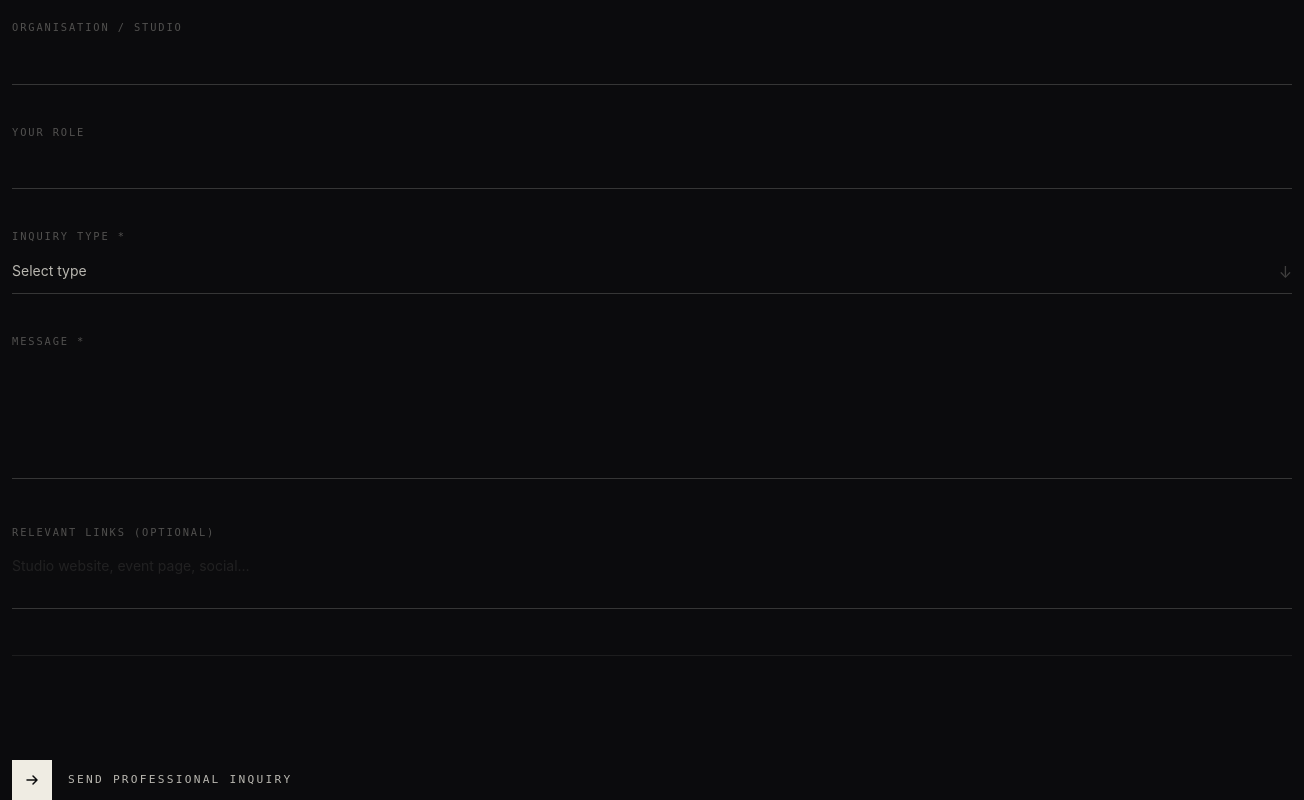
Test case: ProfessionalForm › shows validation errors on empty submit
(page scrolled)
Click the button "Send professional inquiry" at (152, 780), box [12,760,292,799]
(page scrolled)
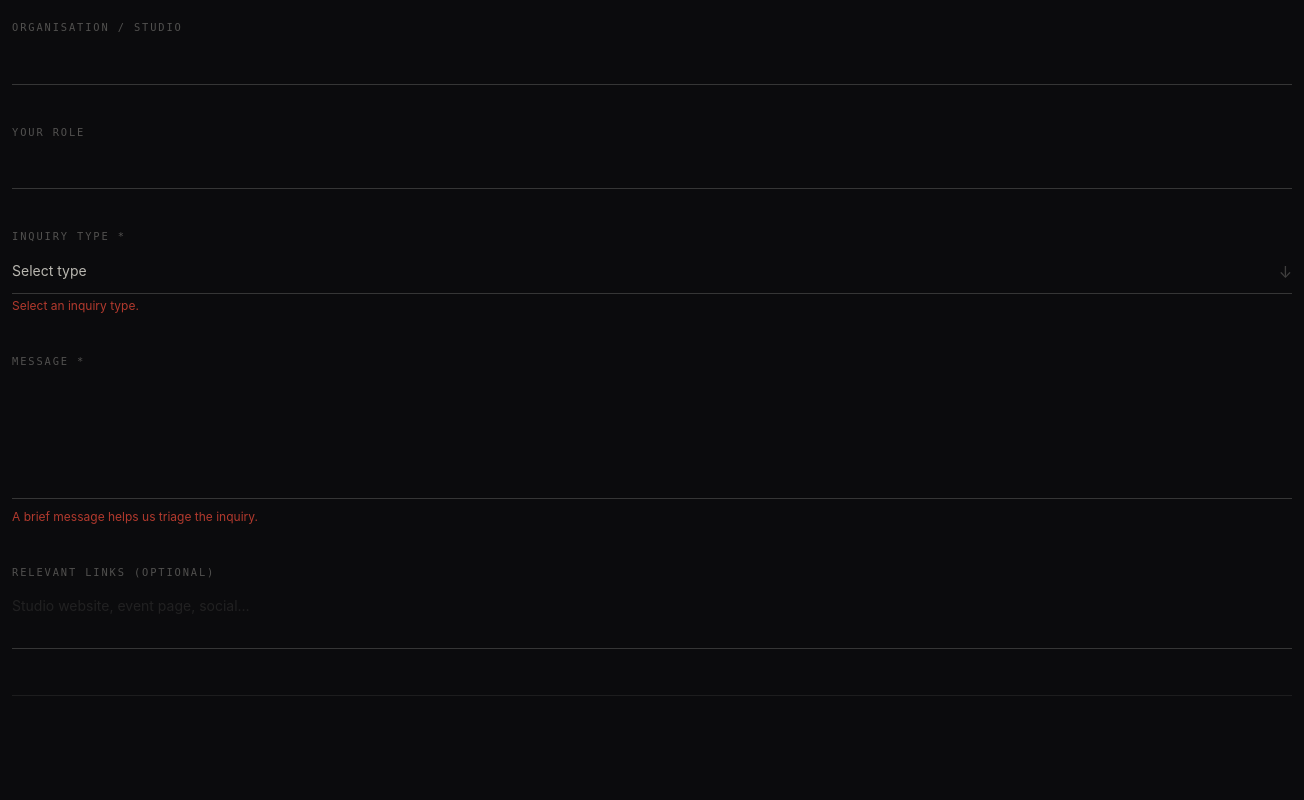
Expected: the text "Select an inquiry type." is shown, [12,298,139,313]
Expected: the text "A brief message helps us triage the inquiry." is shown, [12,509,258,524]
